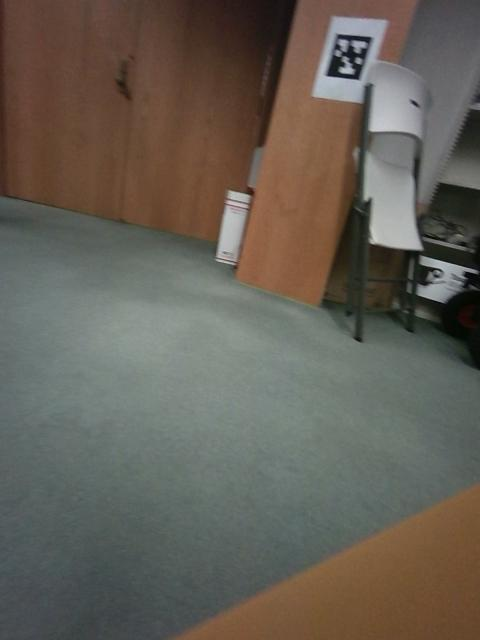block: (119, 290, 155, 353)
